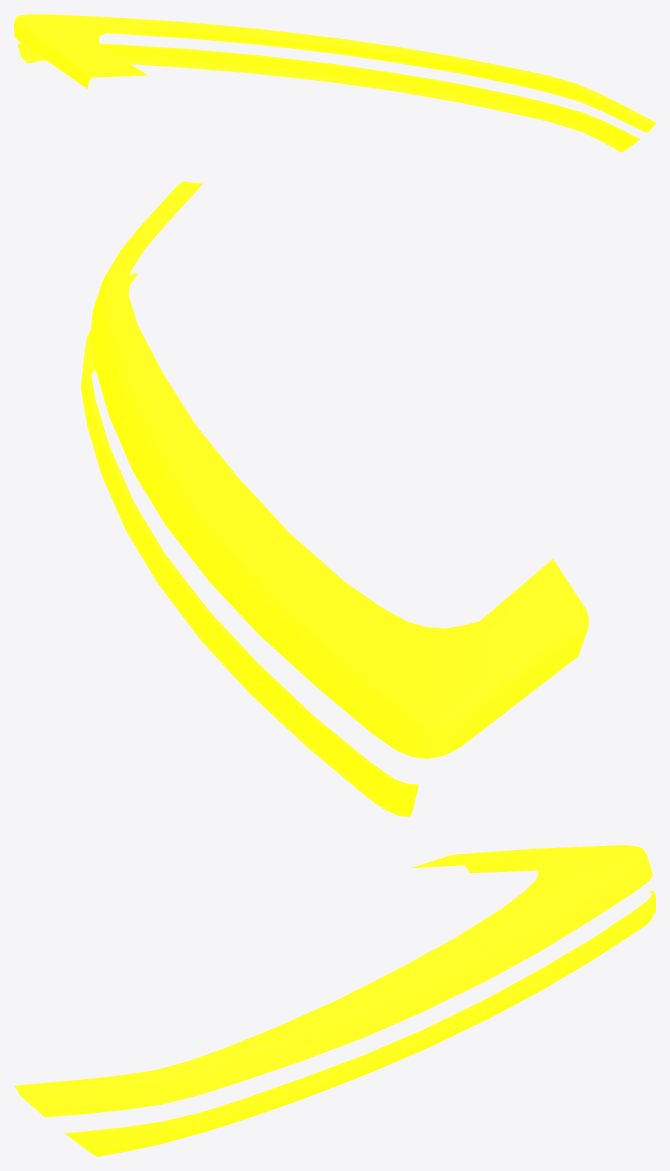
The model's file is porcheleftt.fbx.
The picture shows the model from 3 angles, top to bottom: view 1: azimuth 30°, elevation 25°; view 2: azimuth 150°, elevation 25°; view 3: azimuth 270°, elevation 25°; orthographic projection. The views are drawn at different scales.
Parts seen in each view (by area): view 1: alwaysLit; view 2: alwaysLit; view 3: alwaysLit.
Boxes of the visible parts, x1,y1,x2,y2 form: alwaysLit: (14, 14, 655, 152); alwaysLit: (81, 181, 588, 816); alwaysLit: (14, 845, 655, 1156).
Bounding box in the file's own units: 27.87 × 4.69 × 32.09.
